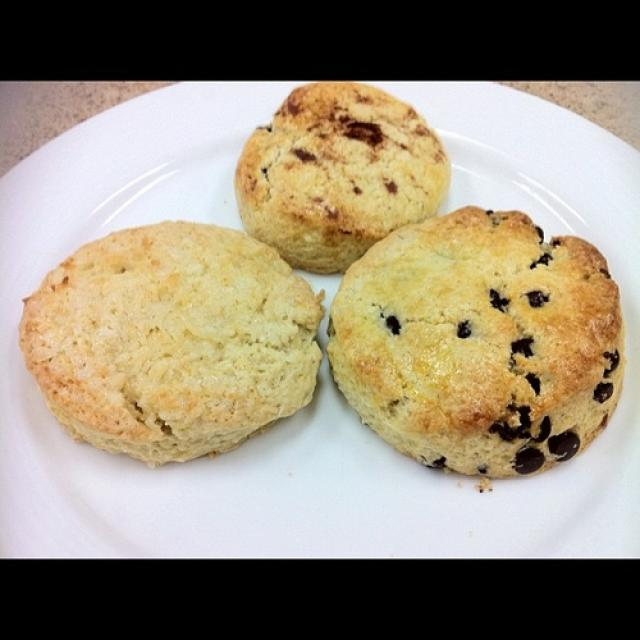面包点心: (19, 82, 627, 554)
